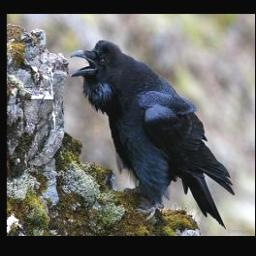Crow: (69, 38, 235, 231)
